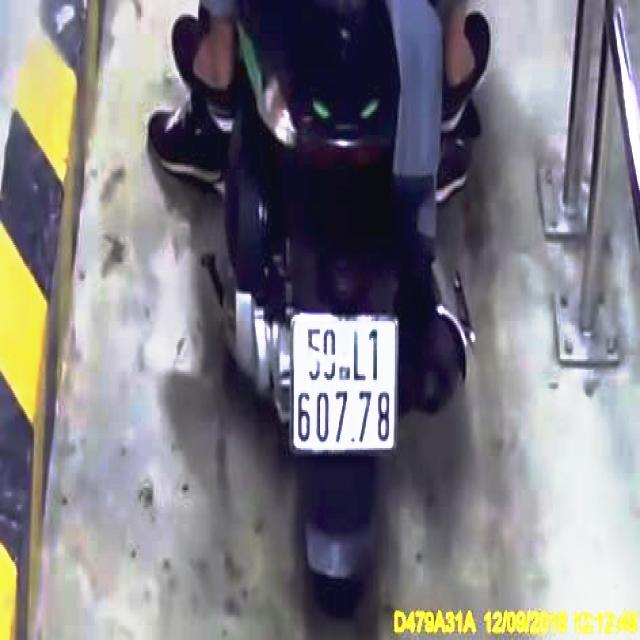license_plate: (293, 317, 399, 454)
